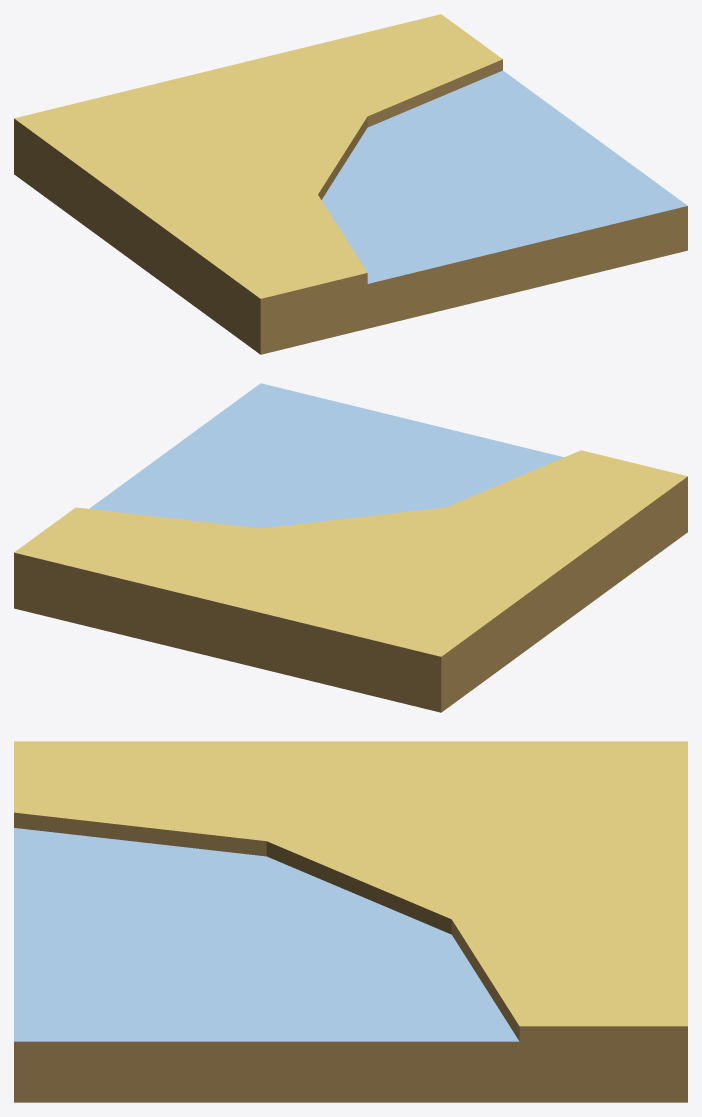
File: Terrain_Tile_Sand_Water_Bank_Corner_01.fbx
3 renders of one model, top to bottom at view 1: azimuth 30°, elevation 25°; view 2: azimuth 150°, elevation 25°; view 3: azimuth 270°, elevation 25°, orthographic. The views are drawn at different scales.
Parts seen in each view (by area): view 1: Terrain_Tile_Sand_Water_Bank_Corner_01; view 2: Terrain_Tile_Sand_Water_Bank_Corner_01; view 3: Terrain_Tile_Sand_Water_Bank_Corner_01.
Part boxes in pixels (bbox=[...]): Terrain_Tile_Sand_Water_Bank_Corner_01: bbox=[14, 14, 687, 354]; Terrain_Tile_Sand_Water_Bank_Corner_01: bbox=[14, 383, 687, 712]; Terrain_Tile_Sand_Water_Bank_Corner_01: bbox=[14, 741, 687, 1102].
Size of the model in its own units: 126 by 15.75 by 126.
